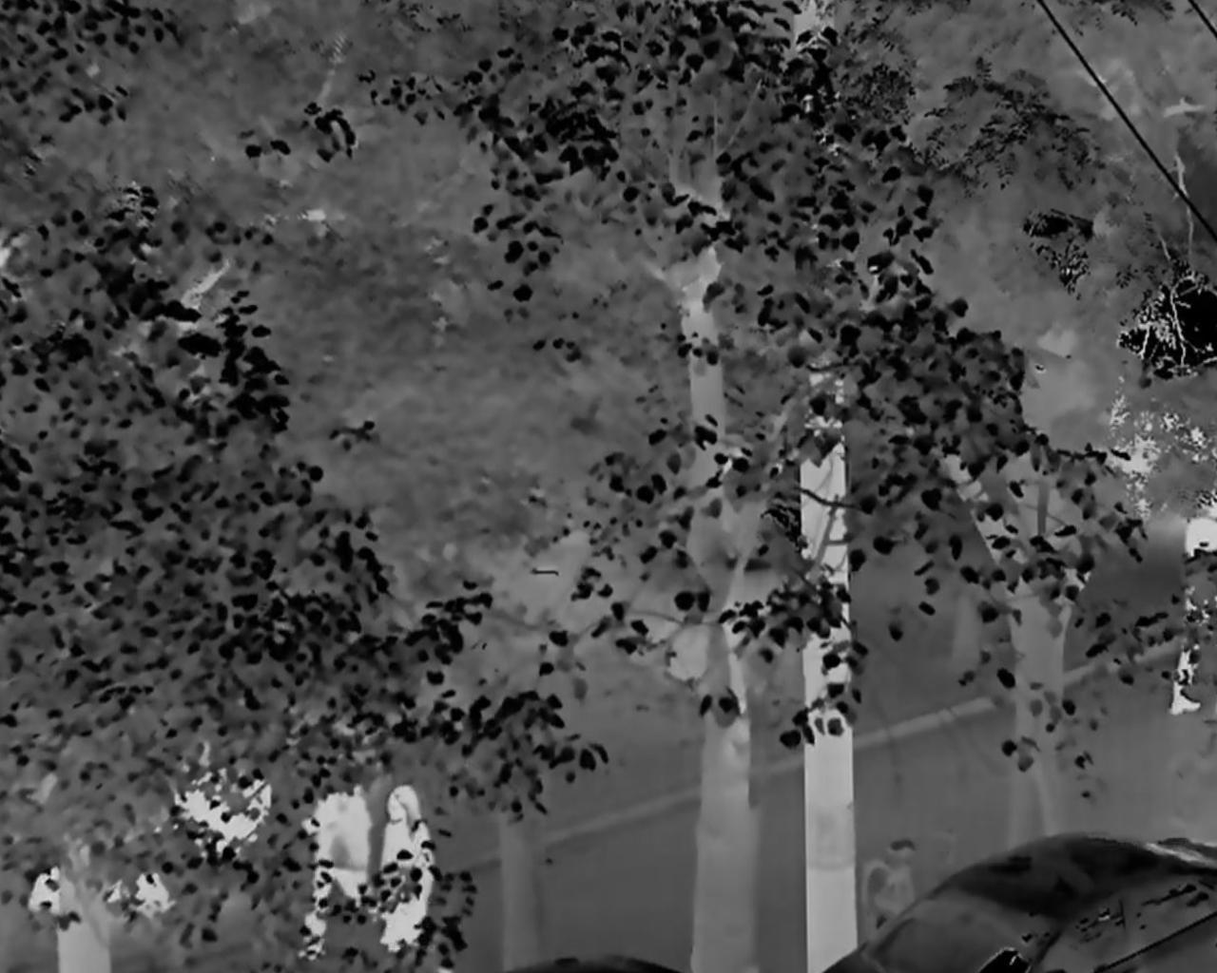person: (297, 767, 380, 958), (1168, 482, 1217, 717), (378, 789, 443, 955)
